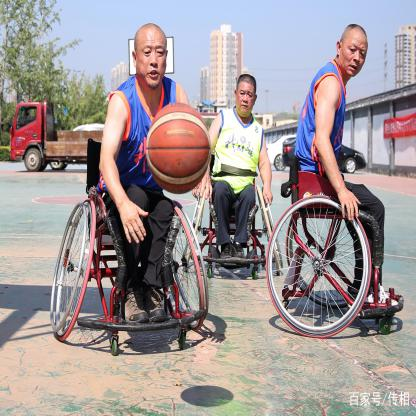wheelchair: (62, 18, 209, 346), (271, 21, 404, 338), (186, 65, 286, 284)
